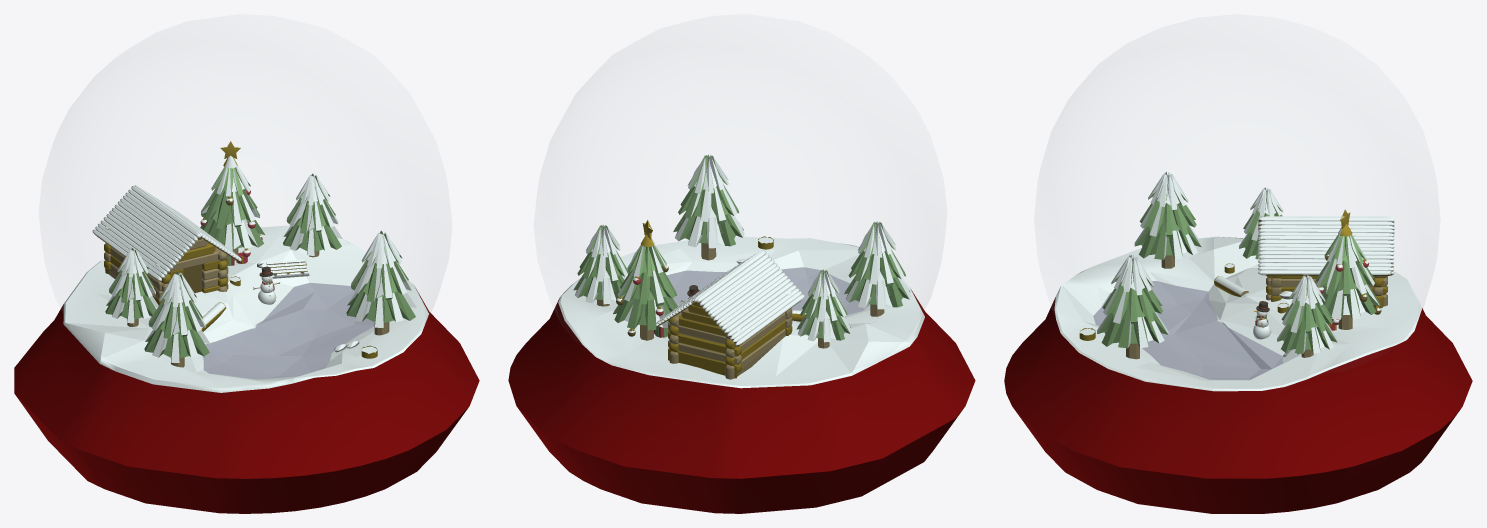
Rendered from low_poly_winter_snowglobe_scene.glb.
3 views of the same model, side by side, from view 1: azimuth 30°, elevation 25°; view 2: azimuth 150°, elevation 25°; view 3: azimuth 270°, elevation 25° (orthographic).
Parts seen in each view (by area): view 1: pDisc2; view 2: pDisc2; view 3: pDisc2.
Boxes of the visible parts, <box> form: pDisc2: <box>14,141,479,513</box>; pDisc2: <box>508,154,975,513</box>; pDisc2: <box>1004,172,1472,513</box>.
Bounding box in the file's own units: 0.5529 × 0.5227 × 0.5601.
